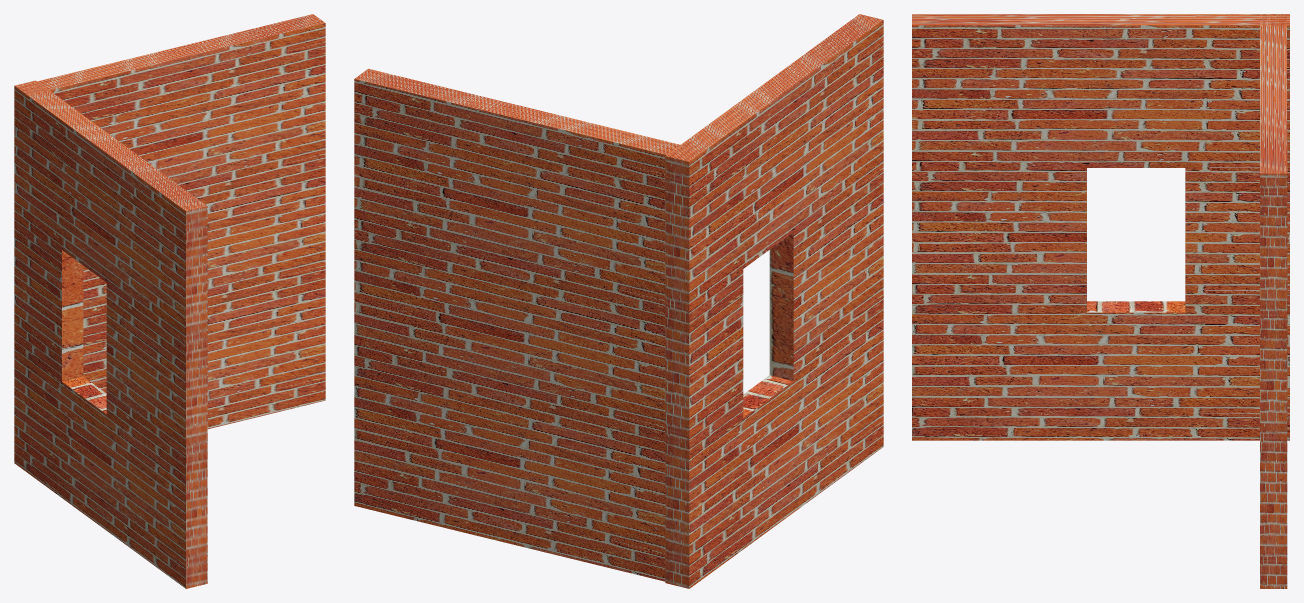
Rendered from Wall.dae.
The picture shows the model from 3 angles, left to right: view 1: azimuth 30°, elevation 25°; view 2: azimuth 150°, elevation 25°; view 3: azimuth 270°, elevation 25°; orthographic projection. The views are drawn at different scales.
Parts seen in each view (by area): view 1: Cube; view 2: Cube; view 3: Cube.
Boxes of the visible parts, left/top/right/bottom form: Cube: left=14, top=14, right=325, bottom=588; Cube: left=354, top=14, right=883, bottom=588; Cube: left=912, top=14, right=1289, bottom=588.
Bounding box in the file's own units: 1.33 × 1.33 × 1.62.
